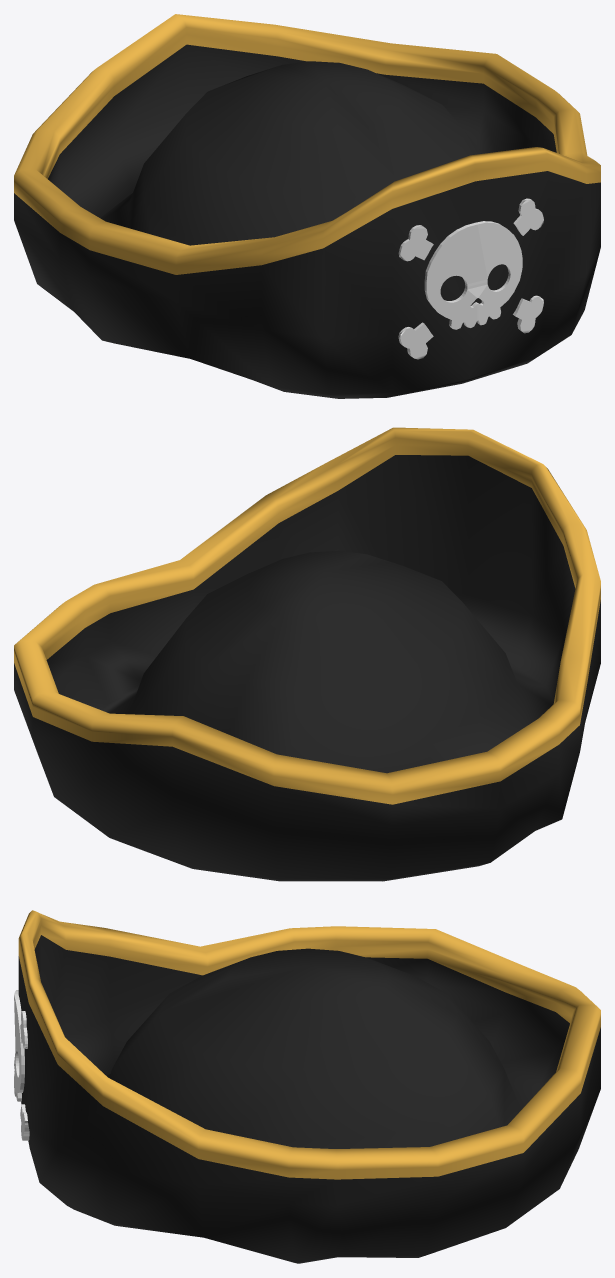
The model's file is Hat(6).gltf.
3 views of the same model, one above another, from view 1: azimuth 30°, elevation 25°; view 2: azimuth 150°, elevation 25°; view 3: azimuth 270°, elevation 25° (orthographic). The views are drawn at different scales.
Parts seen in each view (by area): view 1: Hat(6); view 2: Hat(6); view 3: Hat(6).
Boxes of the visible parts, x1=… form: Hat(6): x1=14, y1=14, x2=600, y2=398; Hat(6): x1=14, y1=427, x2=600, y2=881; Hat(6): x1=14, y1=910, x2=600, y2=1263.
Bounding box in the file's own units: 2.1 × 0.9594 × 2.22.
Materials: 1 (1 with a texture image).
